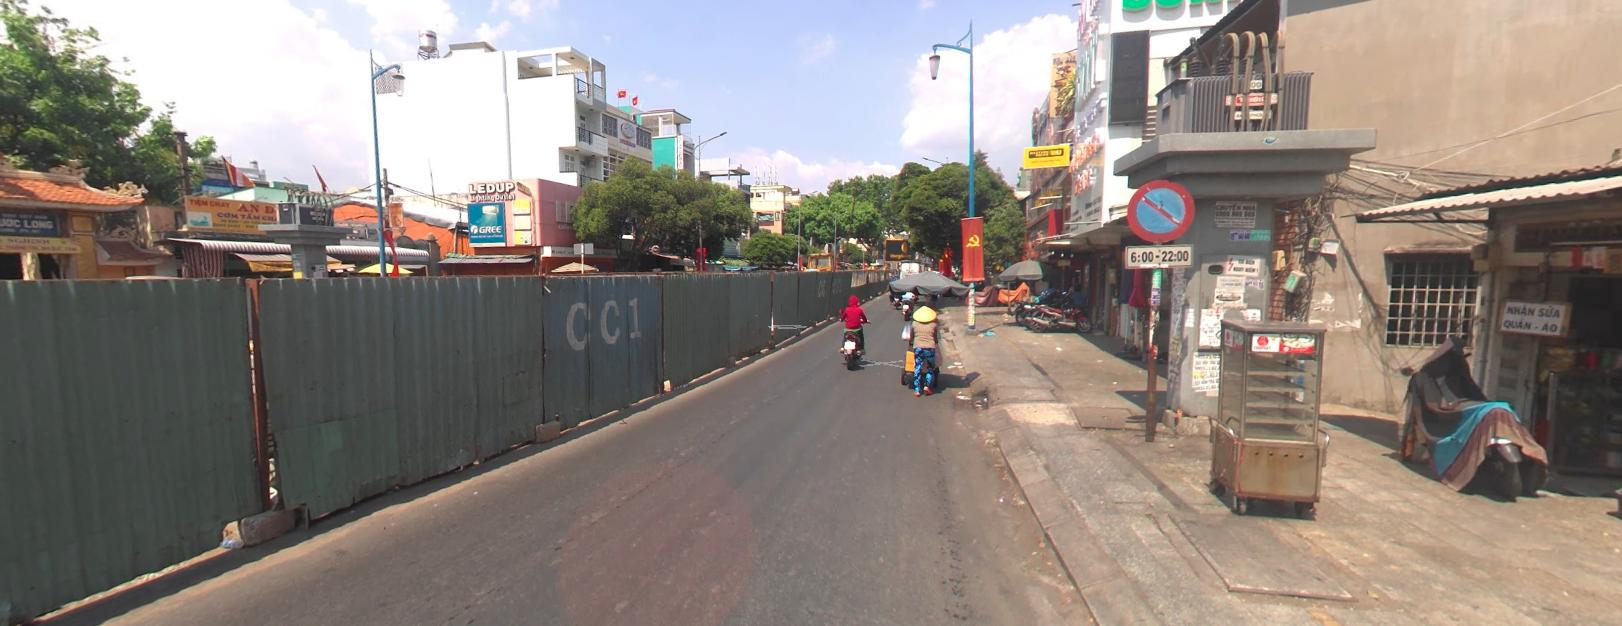Cam dung va do: (1123, 179, 1197, 242)
